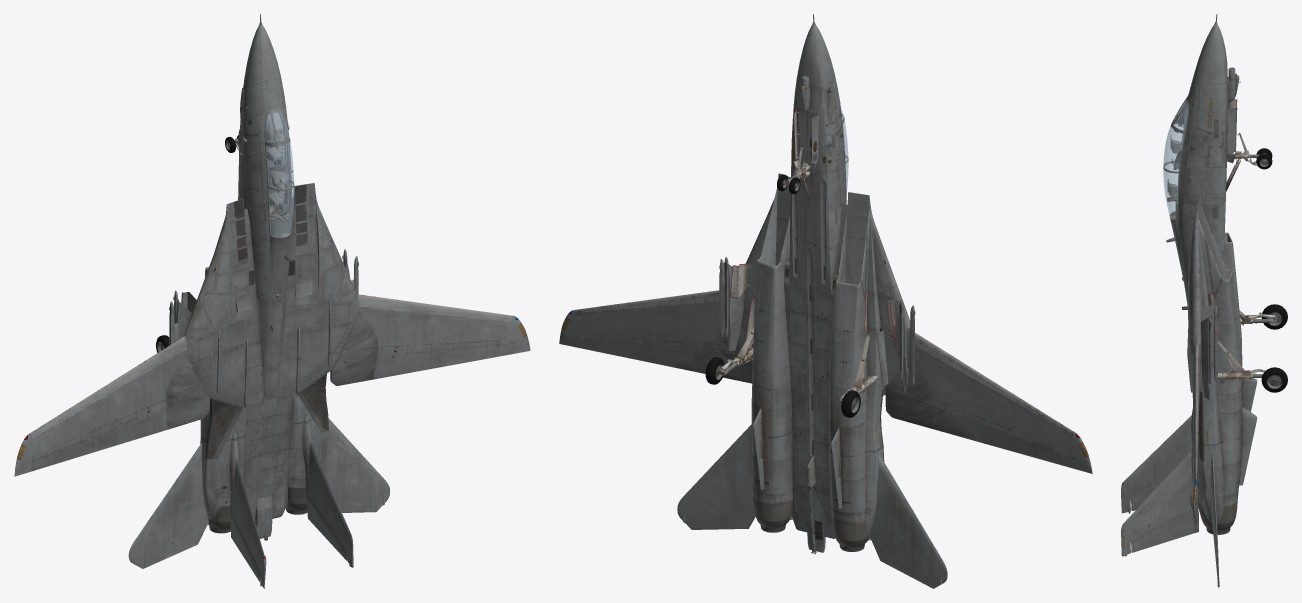
3 views of the same model, side by side, from view 1: azimuth 30°, elevation 25°; view 2: azimuth 150°, elevation 25°; view 3: azimuth 270°, elevation 25° (orthographic). The views are drawn at different scales.
Visible parts, largest first — view 1: f14a-airframe_0, f14a-canopyFr_1, f14a-cockpit_2; view 2: f14a-airframe_0, f14a-gearOn_4, f14a-gearOff_3; view 3: f14a-airframe_0, f14a-gearOn_4, f14a-canopyFr_1, f14a-cockpit_2, f14a-refuelOff_6.
Part boxes in pixels (left/top/right/bottom): f14a-airframe_0: left=14, top=14, right=530, bottom=588; f14a-canopyFr_1: left=265, top=112, right=294, bottom=237; f14a-cockpit_2: left=265, top=111, right=293, bottom=237; f14a-airframe_0: left=559, top=14, right=1092, bottom=588; f14a-gearOn_4: left=705, top=109, right=895, bottom=417; f14a-gearOff_3: left=749, top=110, right=893, bottom=383; f14a-airframe_0: left=1121, top=14, right=1257, bottom=588; f14a-gearOn_4: left=1201, top=99, right=1287, bottom=392; f14a-canopyFr_1: left=1163, top=100, right=1187, bottom=219; f14a-cockpit_2: left=1163, top=99, right=1187, bottom=219; f14a-refuelOff_6: left=1192, top=82, right=1200, bottom=126.
Size of the model in its own units: 19549 by 19154 by 5565.
3 materials, 2 textured.
